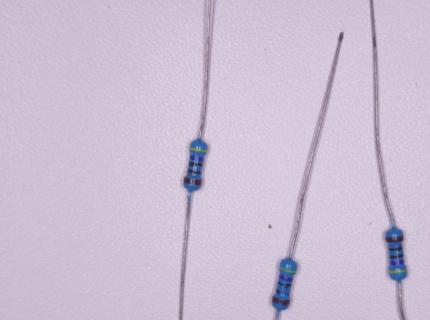Black band: (276, 289, 290, 296), (278, 281, 292, 287), (390, 253, 404, 259), (188, 168, 201, 174), (189, 162, 203, 167), (388, 247, 403, 251)
Brown band: (272, 296, 290, 305), (183, 177, 202, 185), (385, 235, 404, 243)
Violet band: (279, 274, 293, 282), (190, 155, 204, 162), (390, 259, 405, 265)
Yellow band: (279, 266, 296, 274), (189, 147, 208, 153), (389, 269, 407, 274)
